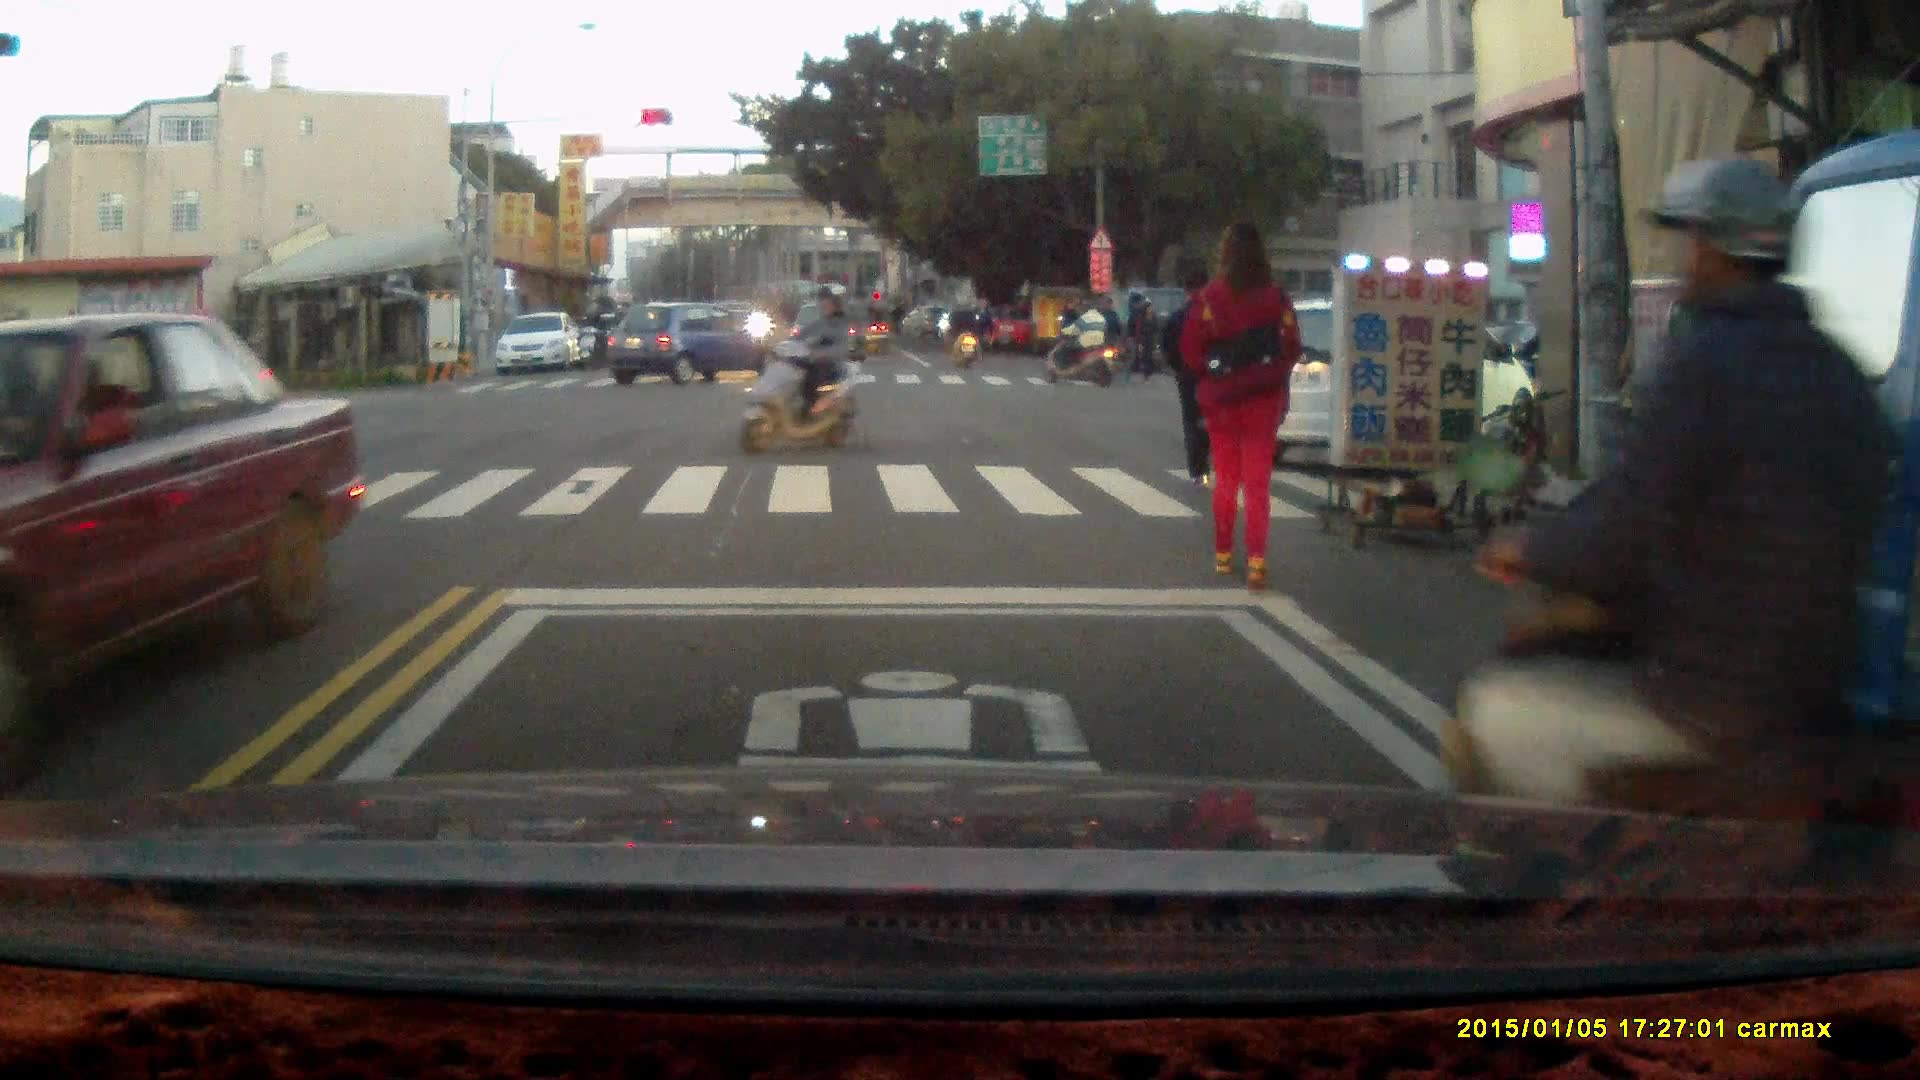pedestrian: (1177, 213, 1305, 590), (1156, 260, 1242, 488), (1130, 301, 1160, 386), (971, 293, 995, 368)
rider: (1443, 155, 1914, 885), (739, 283, 871, 458), (1041, 295, 1118, 387), (941, 292, 982, 370), (575, 302, 607, 370)
vehicle: (1598, 132, 1920, 878), (1, 312, 362, 735), (1233, 296, 1533, 459), (609, 304, 787, 389), (498, 313, 586, 377)
